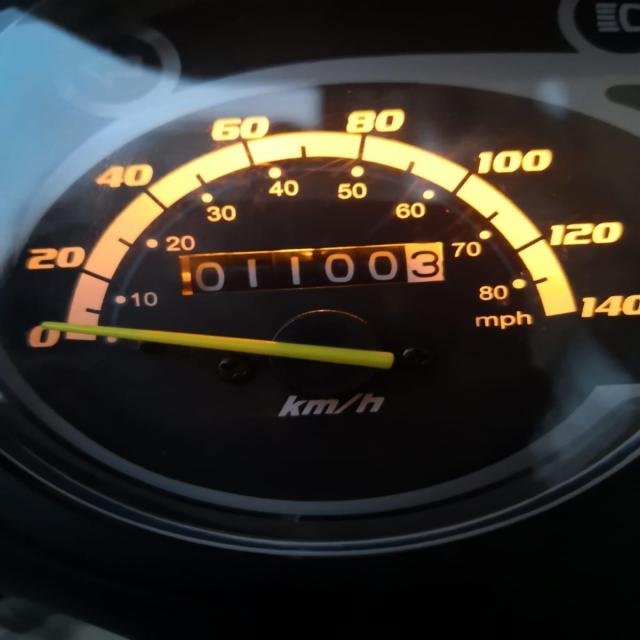odometer: (177, 243, 452, 297)
